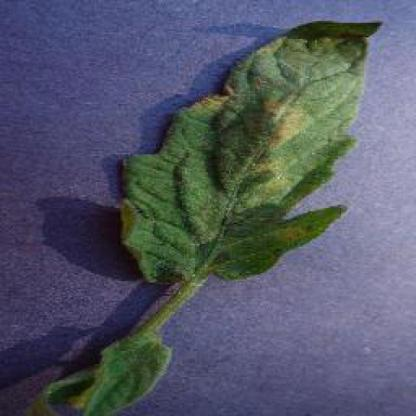Tomato_Leaf_Mold: (125, 20, 379, 284)
